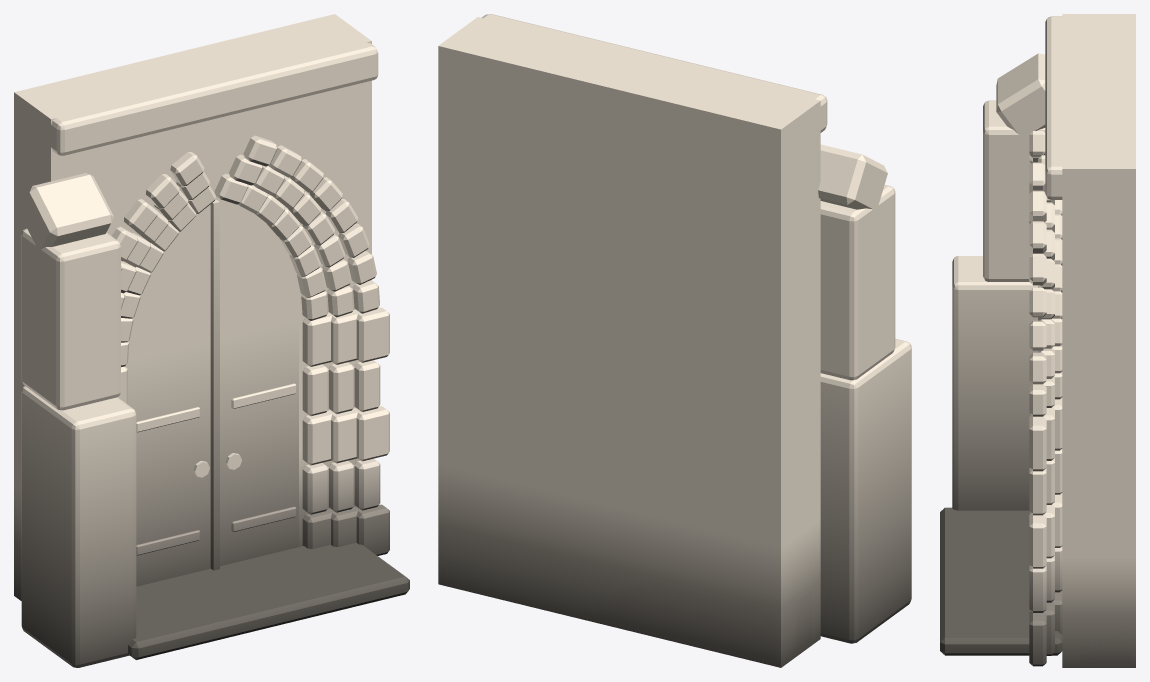
File: SM_VK_Chapel_Wall_Door.fbx
The picture shows the model from 3 angles, left to right: view 1: azimuth 30°, elevation 25°; view 2: azimuth 150°, elevation 25°; view 3: azimuth 270°, elevation 25°; orthographic projection. The views are drawn at different scales.
Visible parts, largest first — view 1: SM_VK_Chapel_Wall_Door.001; view 2: SM_VK_Chapel_Wall_Door.001; view 3: SM_VK_Chapel_Wall_Door.001.
Part boxes in pixels (bbox=[...]): SM_VK_Chapel_Wall_Door.001: bbox=[14, 14, 409, 667]; SM_VK_Chapel_Wall_Door.001: bbox=[438, 14, 911, 667]; SM_VK_Chapel_Wall_Door.001: bbox=[940, 14, 1135, 667].
Bounding box in the file's own units: 3.33 × 4.5 × 1.6.
